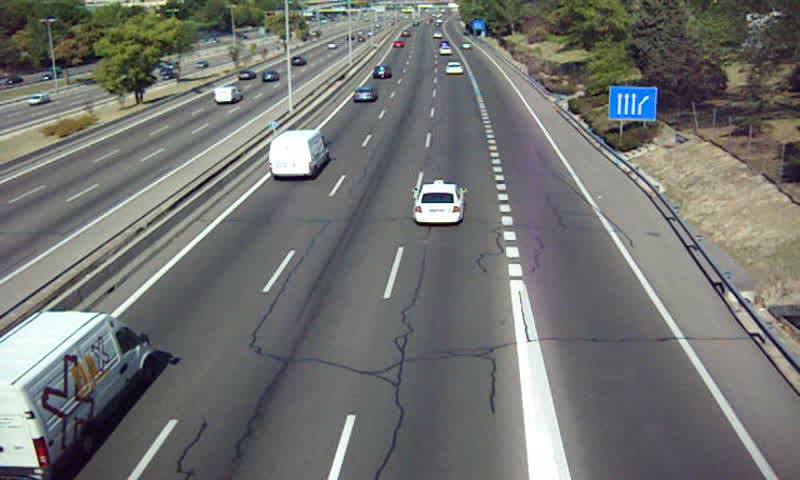car: (414, 183, 465, 224), (351, 87, 376, 106), (374, 64, 393, 81), (444, 61, 464, 76)
van: (1, 310, 151, 480), (269, 130, 328, 178)
